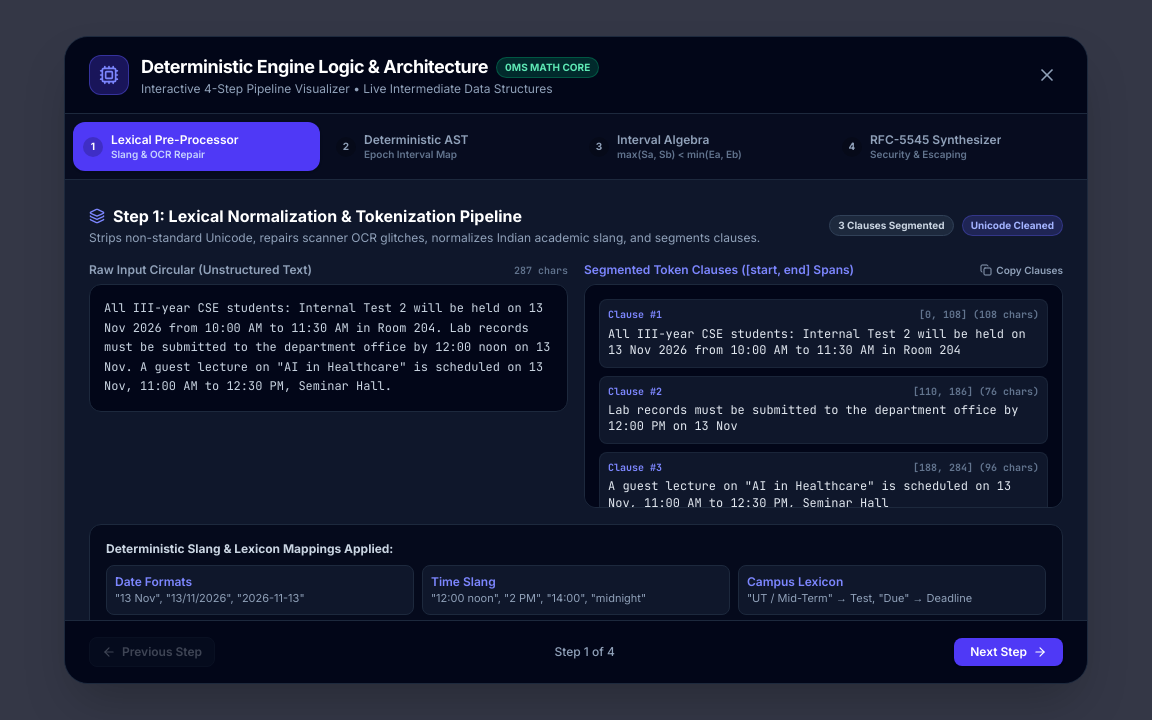
Scenario: AlgorithmExplainerModal — 4-Step Deterministic Pipeline Visualizer › Step 4: Displays RFC-5545 Synthesizer, security firewall, and VCALENDAR syntax
The image size is (1152, 720).
# Click step 4 tab
Click the button with id "explainer-step-4-btn" at (956, 147), box [832,122,1079,171]
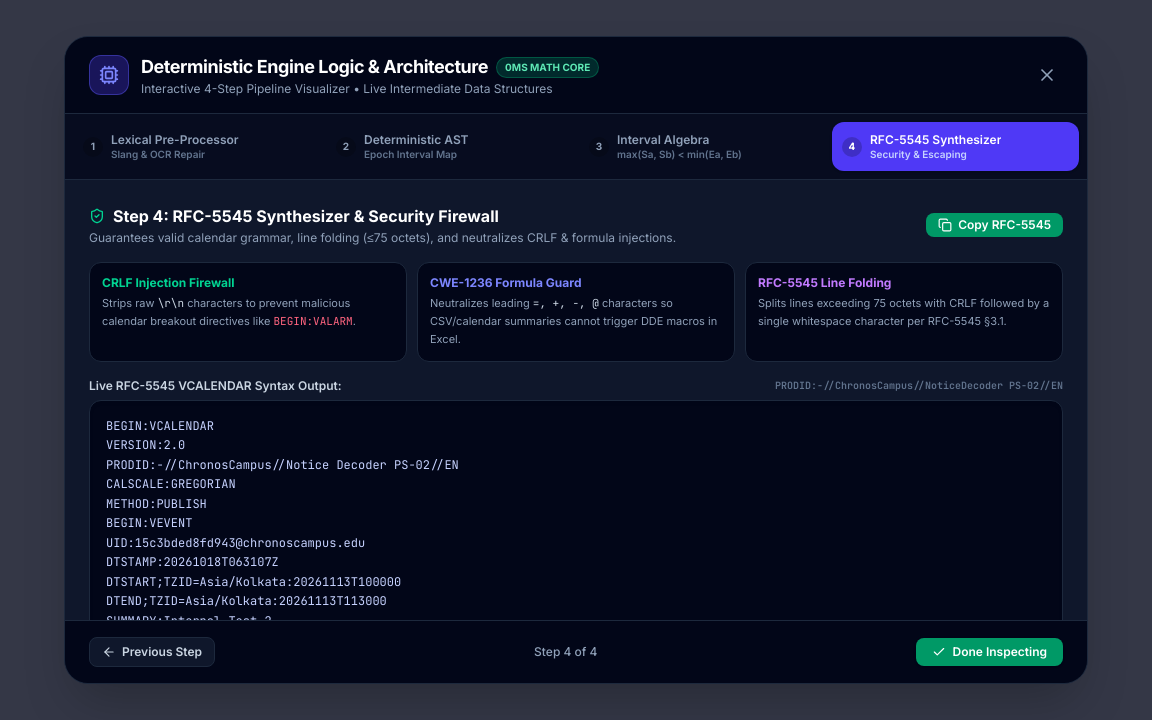
Expected: the element with id "explainer-step-4-content" shows "RFC-5545 Synthesizer & Security Firewall", [113,206,499,226]
Expected: the element with id "explainer-step-4-content" shows "CRLF Injection Firewall", [102,275,235,290]
Expected: the element with id "explainer-step-4-content" shows "CWE-1236 Formula Guard", [430,275,582,290]
